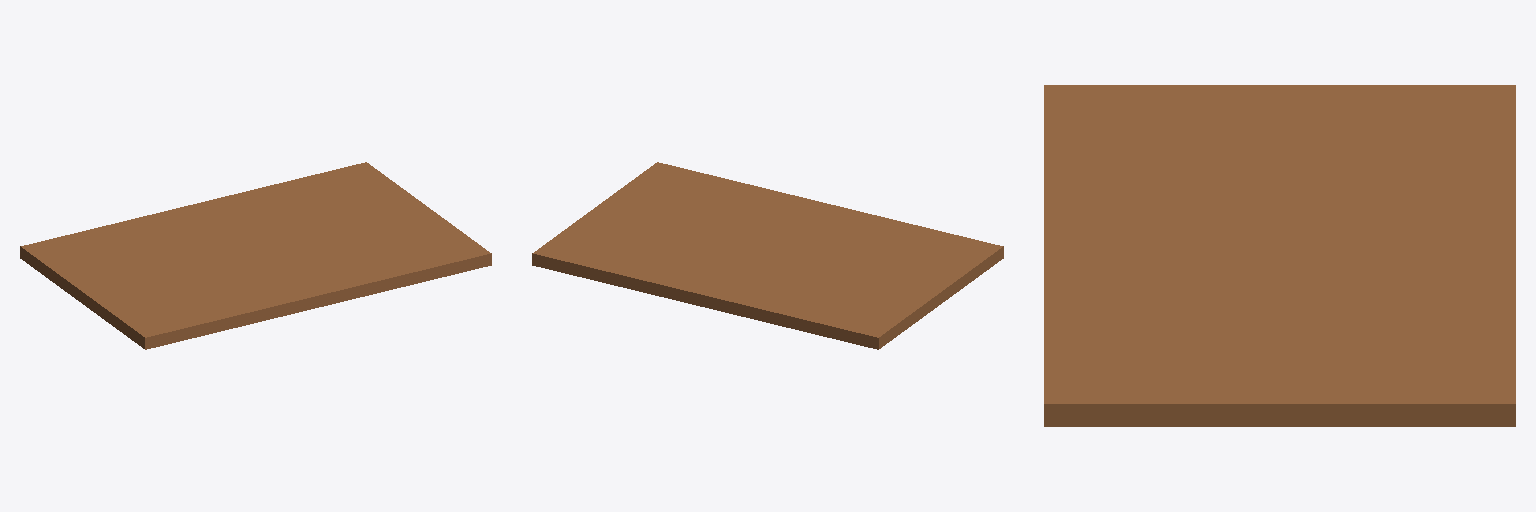
URDF robot description (table):
<?xml version="1.0"?>
<robot name="table">
  <!-- The table top of Physics sandbox: a static convex slab, top face at z = 0. Load with a fixed base -->
  <mujoco>
    <compiler meshdir="../meshes/" discardvisual="true" balanceinertia="true" fusestatic="false" />
  </mujoco>
  <link name="table">
    <inertial>
      <mass value="20" />
      <inertia ixx="1" ixy="0" ixz="0" iyy="1" iyz="0" izz="1" />
    </inertial>
    <visual>
      <geometry>
        <mesh filename="../meshes/table.obj" />
      </geometry>
      <material name="table_color">
        <color rgba="0.659 0.467 0.31 1" />
      </material>
    </visual>
    <collision>
      <geometry>
        <mesh filename="../meshes/table.obj" />
      </geometry>
    </collision>
    <contact>
      <lateral_friction value="1" />
    </contact>
  </link>
</robot>

--- What the picture shows (computed from the rendered views, not written in the file) ---
Views: 3 orthographic renders of the robot side by side, from view 1: azimuth 30°, elevation 25°; view 2: azimuth 150°, elevation 25°; view 3: azimuth 270°, elevation 25°.
Model table with 1 links and 0 joints (none), rooted at table, posed all joints at 0.
Visible links, largest first — view 1: table; view 2: table; view 3: table.
Boxes of the visible links, x1,y1,x2,y2 form: table: (20,162,491,349); table: (532,162,1003,349); table: (1044,85,1515,426).
Bounding box of the posed robot: 1.2 × 0.75 × 0.04 m (x, y, z).
1 mesh visuals loaded from 1 distinct referenced files (1 OBJ).
